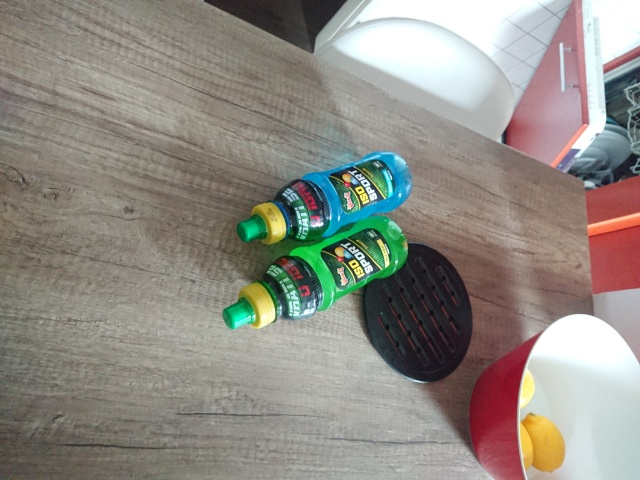Vindi Iso Sport Forest Strawberries 500mL: (235, 147, 414, 247)
Vindi Iso Sport Lemon-Grapefruit 500mL: (220, 213, 410, 332)
